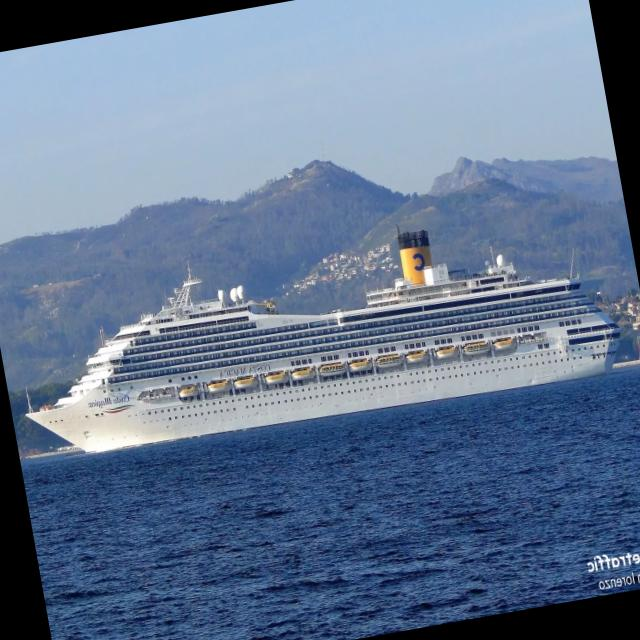Cruise: (28, 230, 619, 451)
